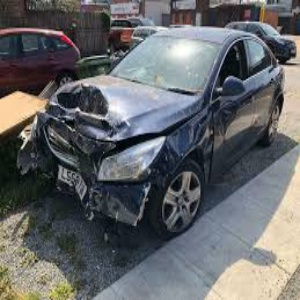bonnet: (61, 81, 130, 138)
bumper: (12, 149, 160, 230)
